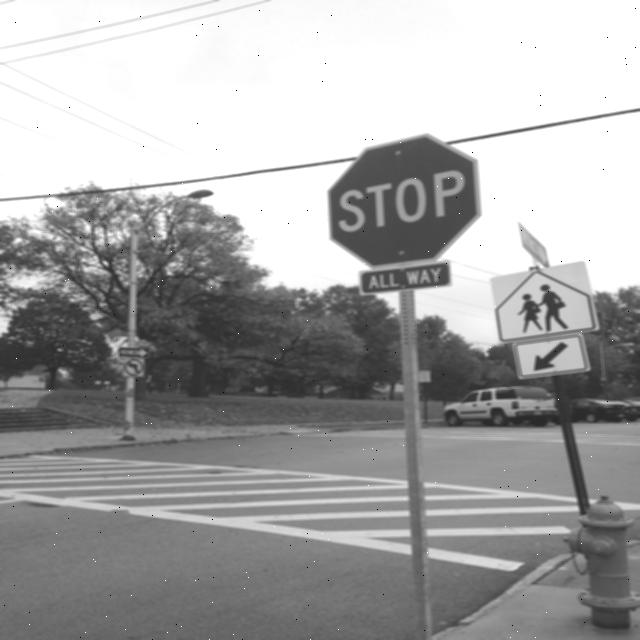Stop-sign: (300, 114, 506, 293)
